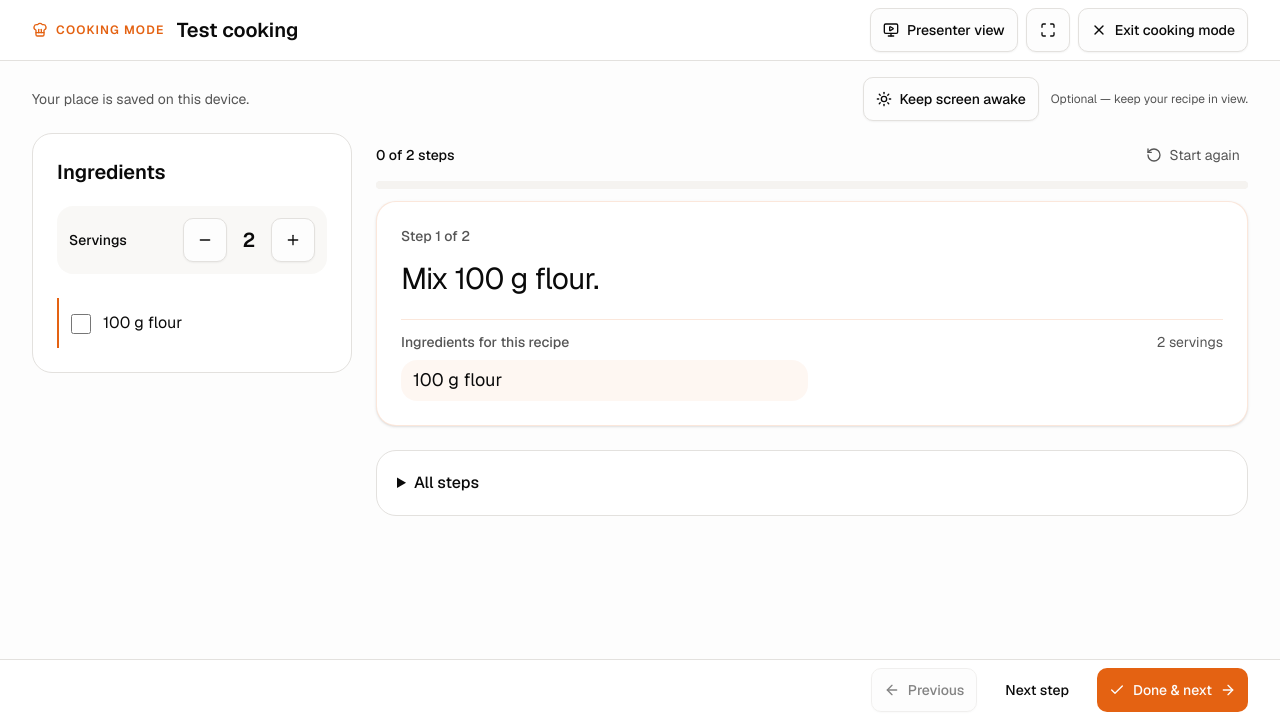
Test: cooking mode › enters fullscreen on the presentation surface and releases it on exit
This screenshot has width=1280, height=720.
What coordinates should you click on to do the following:
click the button named "Enter fullscreen"
I would click on:
 (1048, 30)
Its box is [1026,8,1070,52].
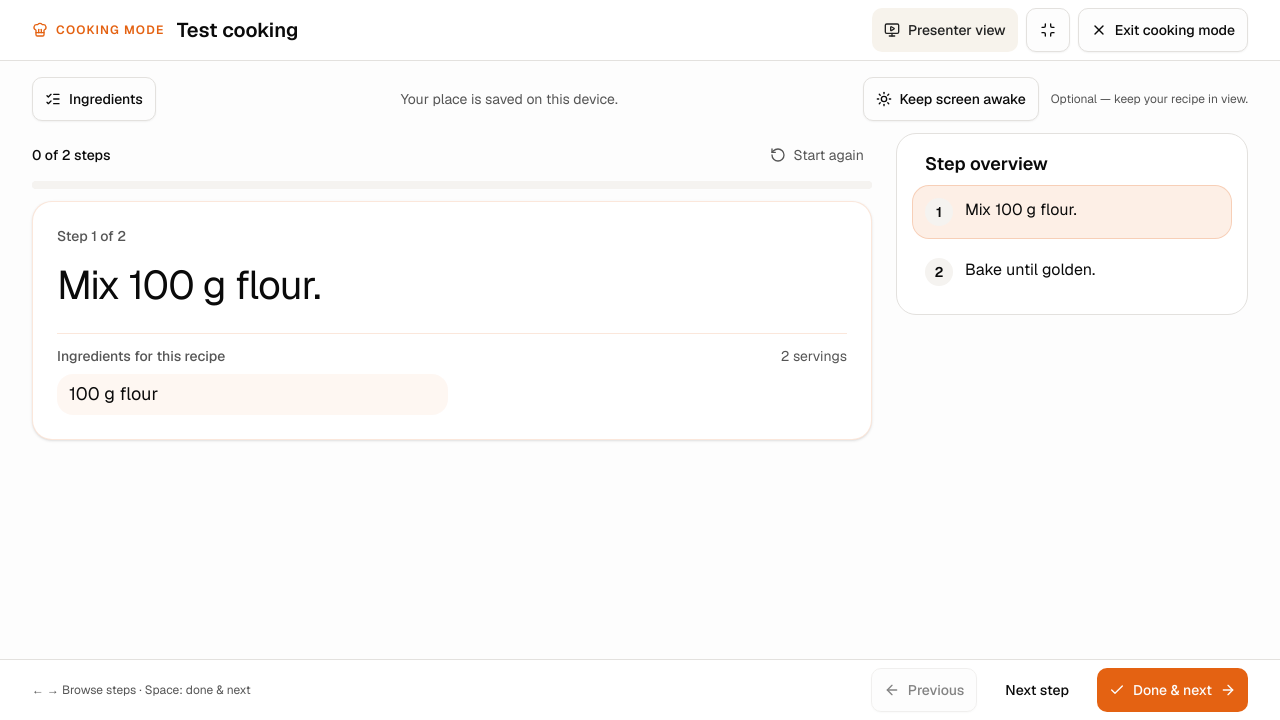
Now the button named "Exit fullscreen" is shown, box [1026,8,1070,52]
